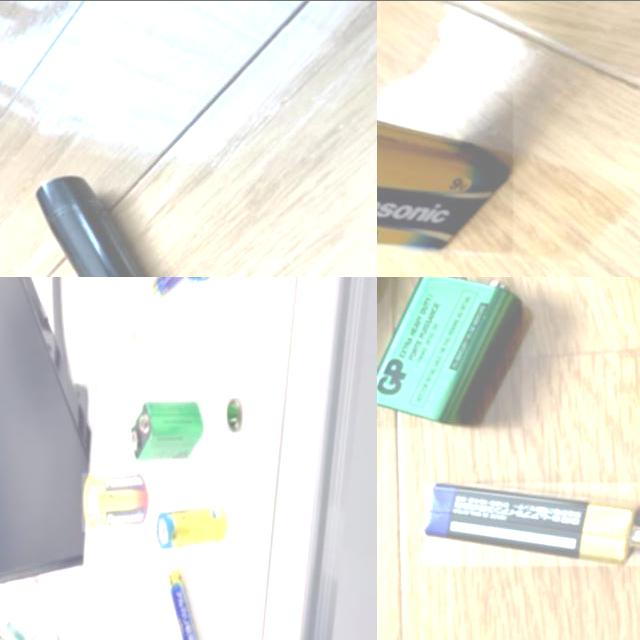9V: (377, 276, 522, 427), (377, 91, 512, 252), (424, 482, 640, 565), (126, 398, 204, 462)
